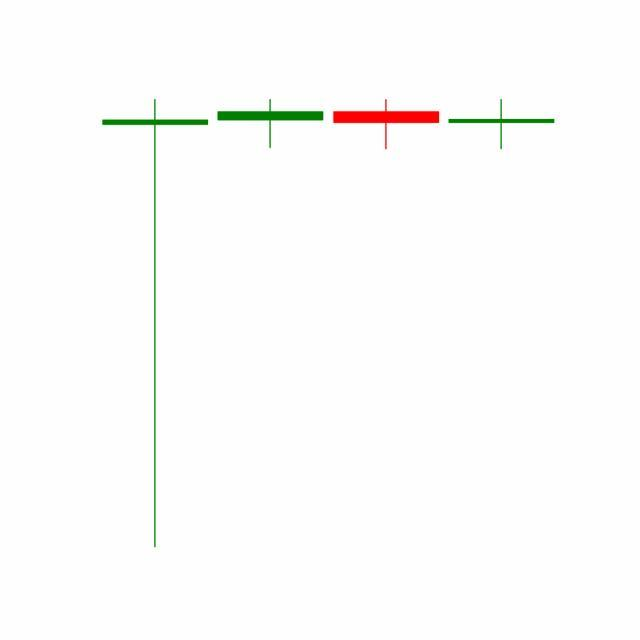Spinning Top: (444, 99, 560, 151)
